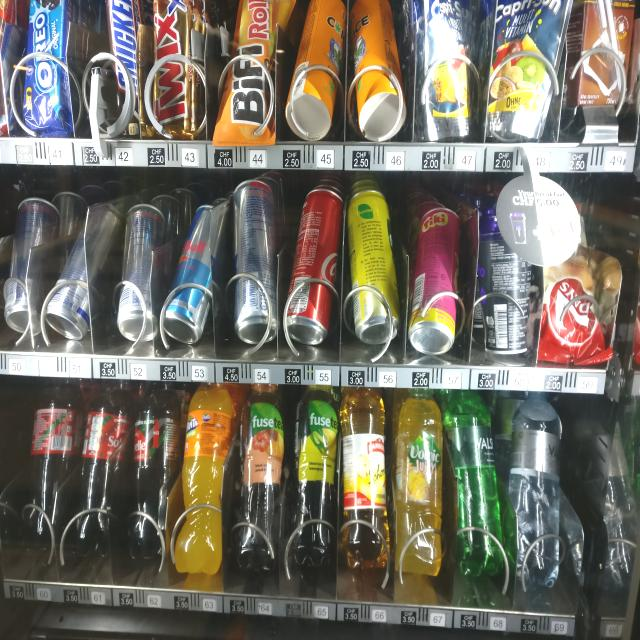7days_croissantschoko_packung_80_1_0000000000003: (536, 187, 602, 364)
bifi_roll__50__4251097402635: (212, 0, 278, 144)
c-swiss_dosenabisicetea__33__9120025930135: (350, 0, 406, 138), (293, 1, 347, 143)
caferoyal_classicmacchiato__33__7617014164487: (478, 200, 532, 355)
caprisun_multivitamin__20__4000177605004: (483, 0, 564, 138), (417, 0, 481, 137)
coke__dose_33__54491472: (286, 185, 343, 345)
coke__flasche_50__54491472: (126, 382, 184, 564), (19, 378, 74, 560), (80, 386, 129, 572)
comella_schokodrink__33__7613100037253: (569, 0, 637, 116)
fanta___50__40822938: (176, 382, 231, 564)
fuse_lemon__50__5449000235947: (286, 382, 340, 571)
fuse_lemon_dose_33__5449000235947: (344, 185, 404, 343)
fuse_peach__50__5449000236623: (234, 381, 284, 573)
oreo___66__84100733: (19, 0, 74, 133)
ramseier_schorle__50__7610057012456: (339, 385, 392, 572)
redbull___33__90162909: (228, 172, 279, 341), (162, 202, 220, 342), (7, 198, 54, 334), (118, 202, 158, 342)
snickers___50__5000159461122: (108, 0, 140, 129)
tiki_himbeer_brause__50__00000000009342: (406, 202, 463, 354)
twix___50__5000159459228: (146, 0, 196, 133)
valser_classic__50__76404160: (443, 386, 510, 584)
valser_still__50__7610335002575: (504, 389, 565, 588)
volvic_pinapple__50__305764335648: (390, 384, 444, 576)
